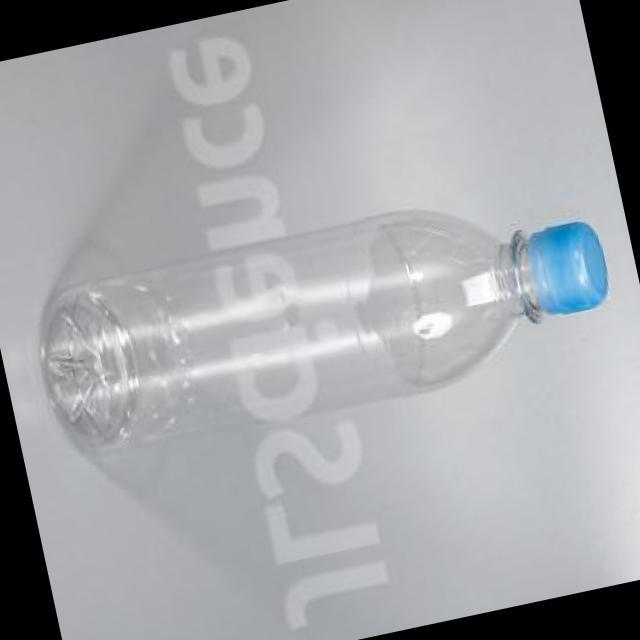good: (22, 147, 640, 526)
